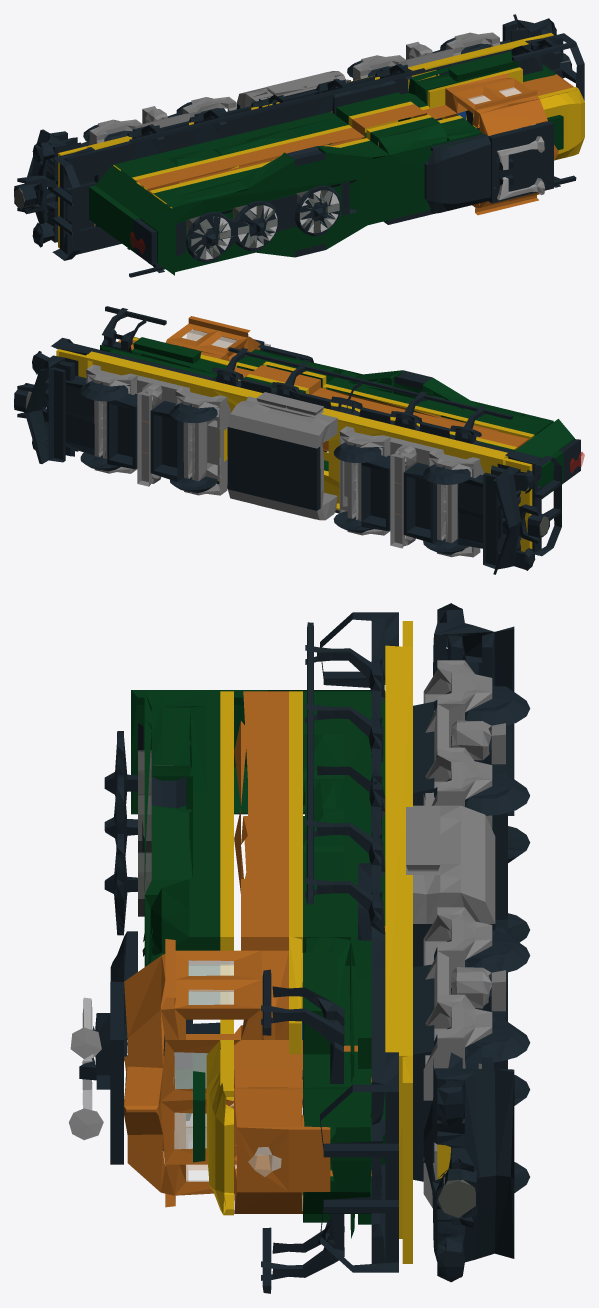
The model's file is burlington-northern-santa-fe-locomotive.glb.
3 renders of one model, top to bottom at view 1: azimuth 30°, elevation 25°; view 2: azimuth 150°, elevation 25°; view 3: azimuth 270°, elevation 25°, orthographic. The views are drawn at different scales.
Size of the model in its own units: 282 by 69.38 by 107.
